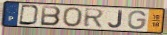B: (40, 5, 62, 27)
D: (18, 4, 41, 27)
G: (127, 10, 148, 30)
J: (108, 10, 124, 29)
O: (62, 7, 84, 28)
R: (83, 8, 106, 28)
